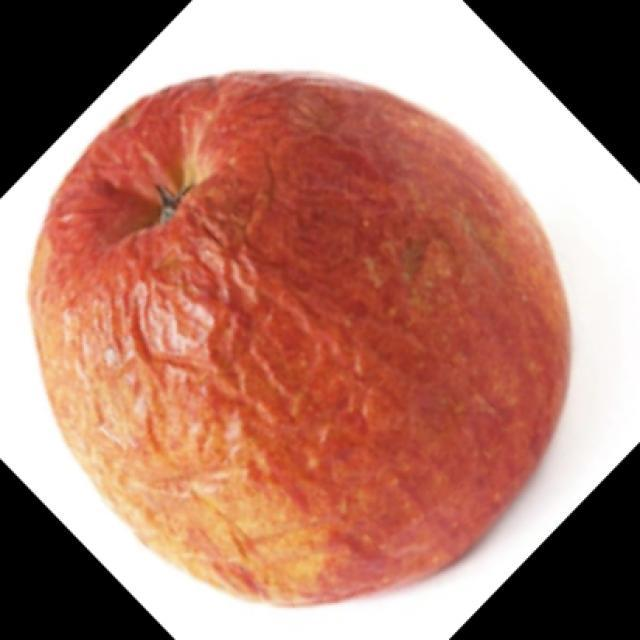Rotten: (55, 77, 572, 605)
